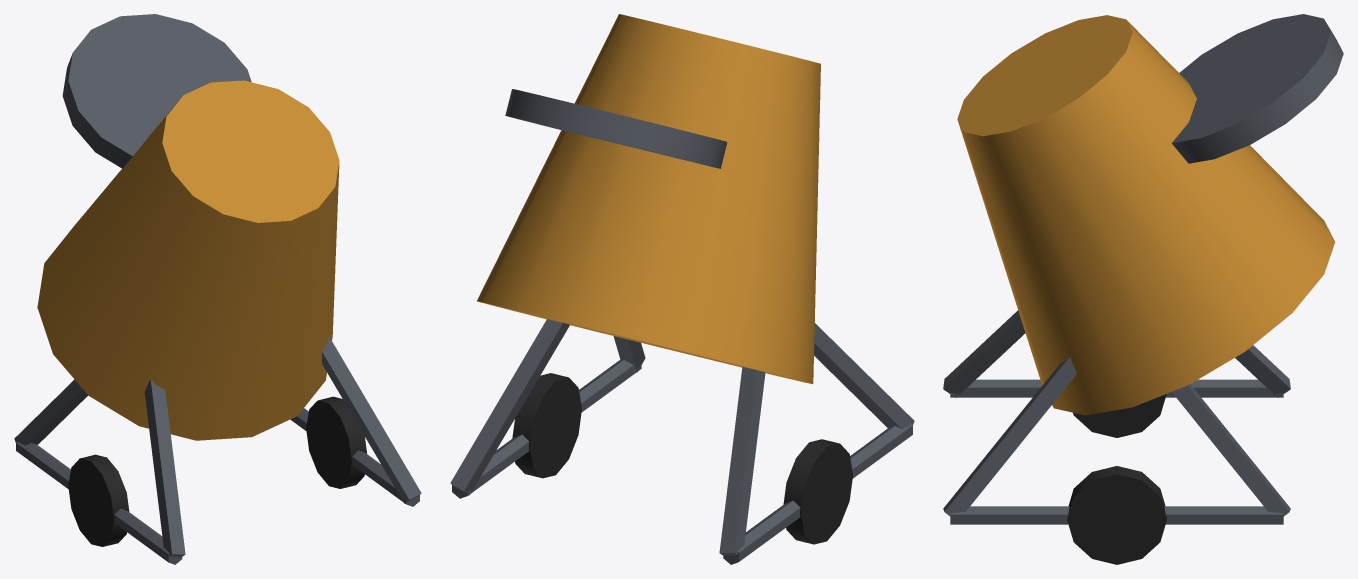
The model's file is cement_mixer.glb.
3 renders of one model, left to right at view 1: azimuth 30°, elevation 25°; view 2: azimuth 150°, elevation 25°; view 3: azimuth 270°, elevation 25°, orthographic. The views are drawn at different scales.
Parts seen in each view (by area): view 1: drum, drum_mouth, wheel, wheel.001, leg, leg.002, leg_bar, leg.001, leg_bar.001; view 2: drum, drum_mouth, wheel, wheel.001, leg.003, leg.001, leg, leg_bar, leg_bar.001, leg.002; view 3: drum, drum_mouth, wheel.001, leg_bar.001, leg.002, leg.003, leg_bar, leg, wheel, leg.001.
Part boxes in pixels (x1,y1,x2,y2): drum: (37,80,339,440); drum_mouth: (62,14,251,168); wheel: (68,454,129,546); wheel.001: (306,396,366,488); leg: (144,379,185,558); leg.002: (322,336,421,503); leg_bar: (16,441,182,564); leg.001: (14,379,87,451); leg_bar.001: (290,408,419,506); drum: (477,14,820,383); drum_mouth: (505,89,727,168); wheel: (783,439,852,544); wheel.001: (512,373,581,478); leg.003: (450,319,569,495); leg.001: (719,366,765,555); leg: (814,323,914,435); leg_bar: (723,424,912,564); leg_bar.001: (452,360,641,498); leg.002: (613,336,645,372); drum: (957,15,1335,415); drum_mouth: (1172,14,1343,163); wheel.001: (1067,466,1166,564); leg_bar.001: (950,506,1283,524); leg.002: (943,357,1076,521); leg.003: (1172,384,1290,521); leg_bar: (950,379,1283,397); leg: (943,310,1025,397); wheel: (1073,394,1166,437); leg.001: (1235,345,1290,397).
Size of what is drawn, in the model's own units: 1 by 1.54 by 1.2.
